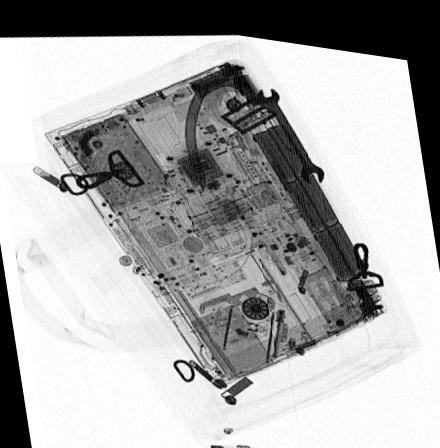Wrench: (255, 76, 326, 175)
